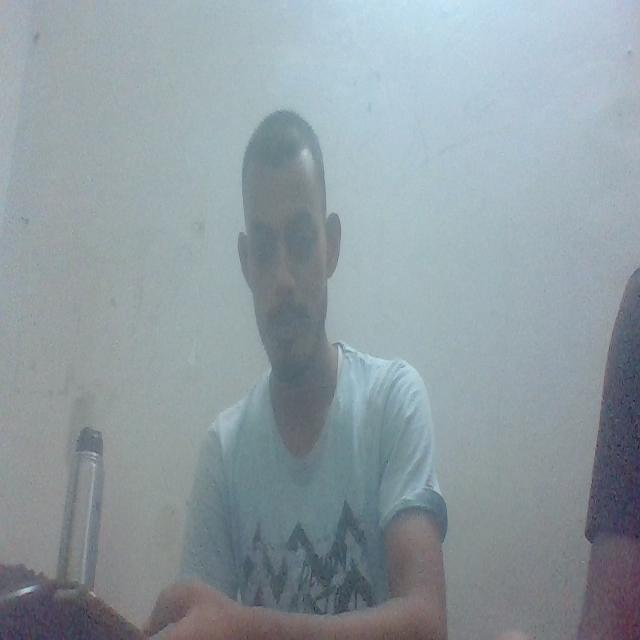Phone: (48, 585, 150, 640)
